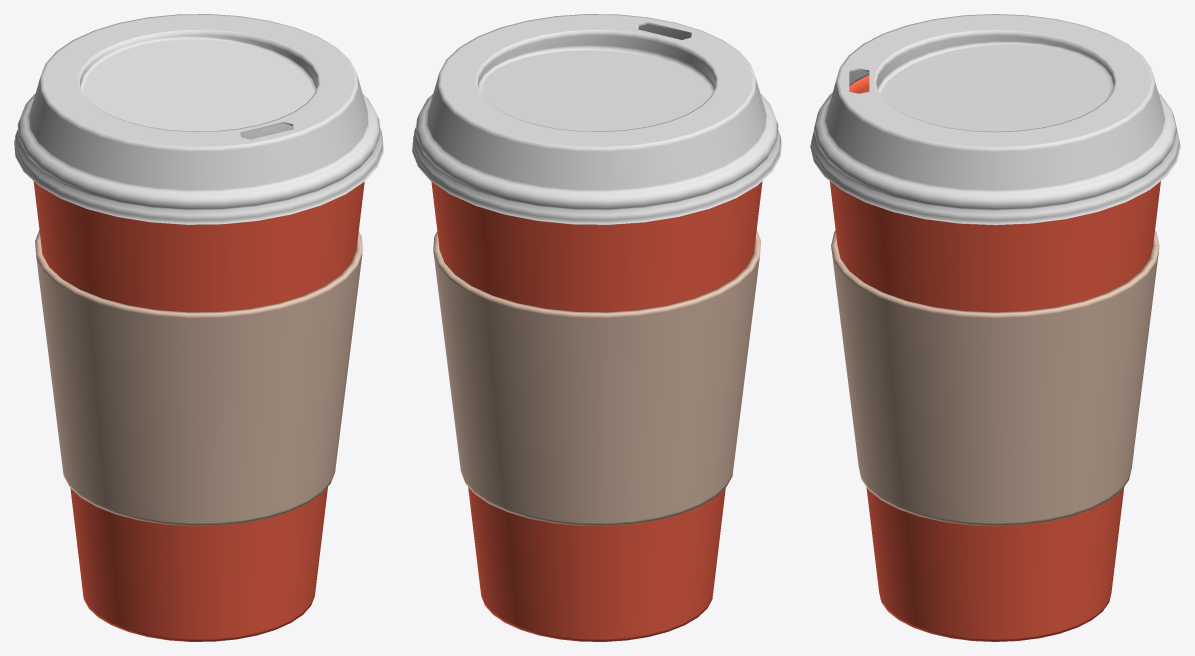
Rendered from coffee cup.fbx.
3 renders of one model, left to right at view 1: azimuth 30°, elevation 25°; view 2: azimuth 150°, elevation 25°; view 3: azimuth 270°, elevation 25°, orthographic.
Visible parts, largest first — view 1: Sleeve, Lid, Cup; view 2: Sleeve, Lid, Cup; view 3: Sleeve, Lid, Cup.
Boxes of the visible parts, x1,y1,x2,y2 form: Sleeve: (35, 230, 362, 526); Lid: (14, 14, 383, 224); Cup: (33, 181, 364, 641); Sleeve: (433, 230, 760, 526); Lid: (412, 14, 781, 224); Cup: (431, 181, 762, 641); Sleeve: (831, 230, 1159, 526); Lid: (810, 14, 1180, 225); Cup: (829, 75, 1160, 641).
Size of the model in its own units: 319 by 486 by 319.
